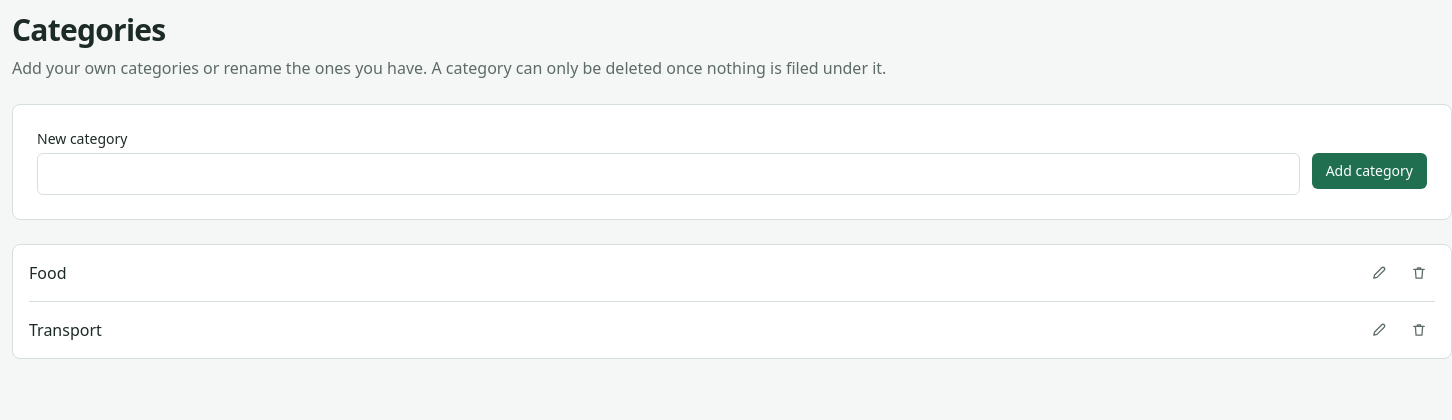
Test: CategoriesPage › explains why a category can't be deleted
This screenshot has width=1452, height=420.
Expected: the text "Food" is shown, [29,262,66,284]
What coordinates should you click on to do the following:
click the button named "Delete Food"
I would click on:
 (1419, 273)
Its box is [1403,257,1435,289].
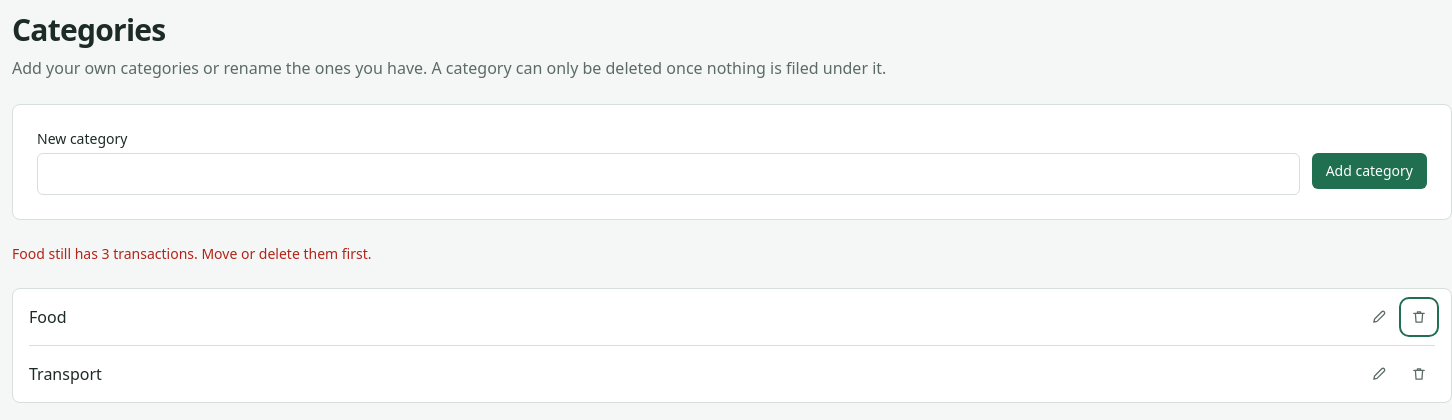
Expected: the message reads "Food still has 3 transactions. Move or delete them first.", [12,244,372,263]
